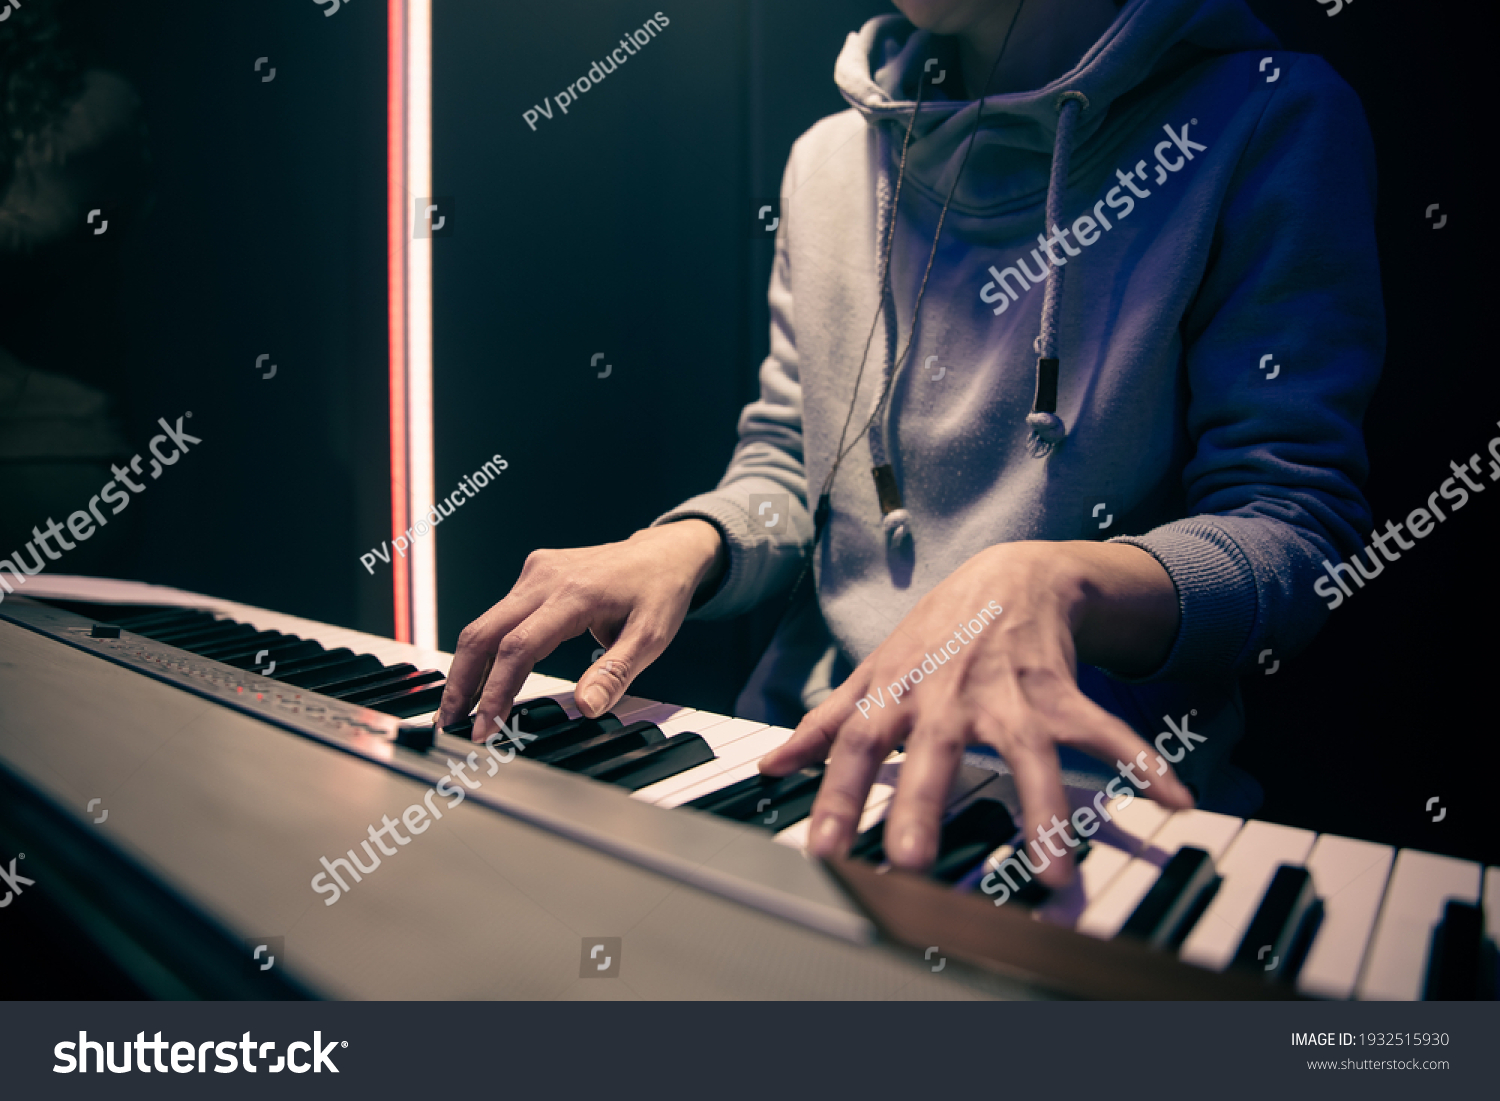Piano: (1, 475, 1473, 1033)
